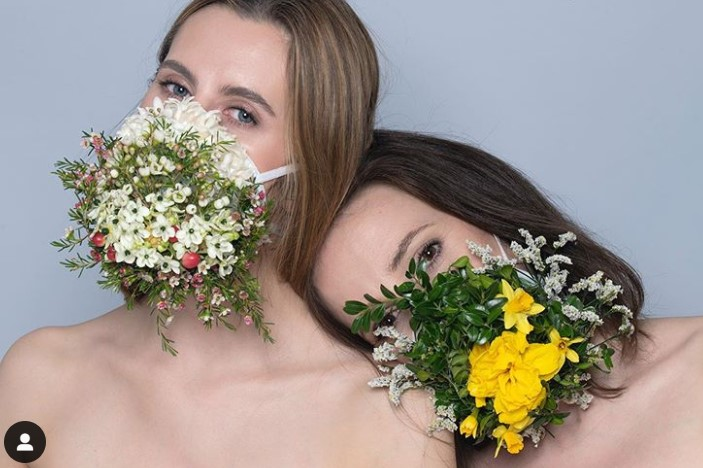face_with_mask: (305, 126, 651, 457), (48, 1, 341, 364)
